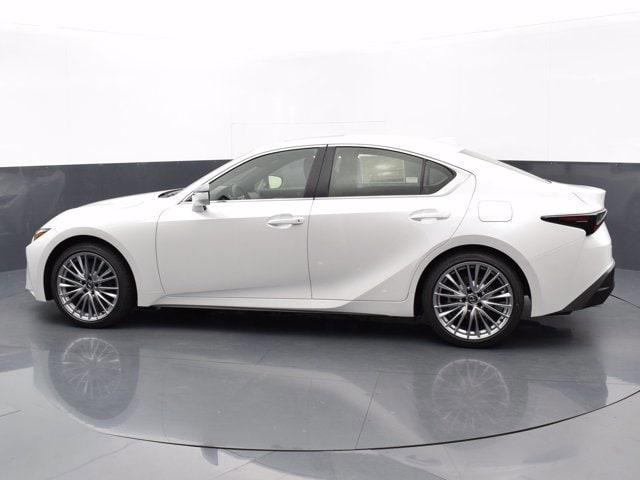lexus: (25, 137, 617, 349)
